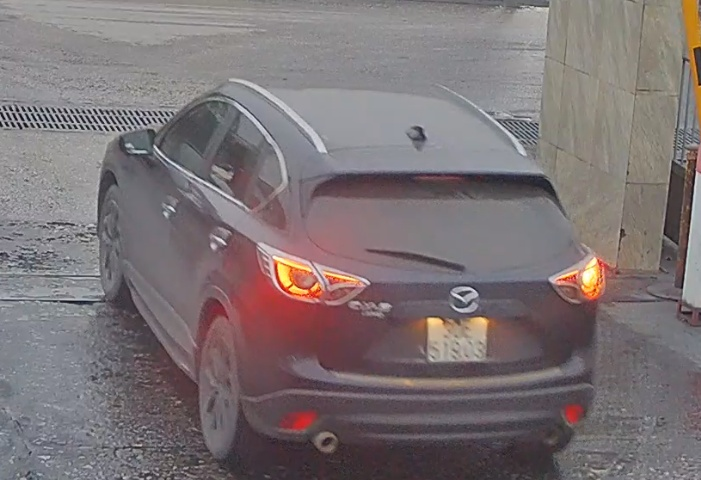vehicle plate: (425, 310, 503, 365)
